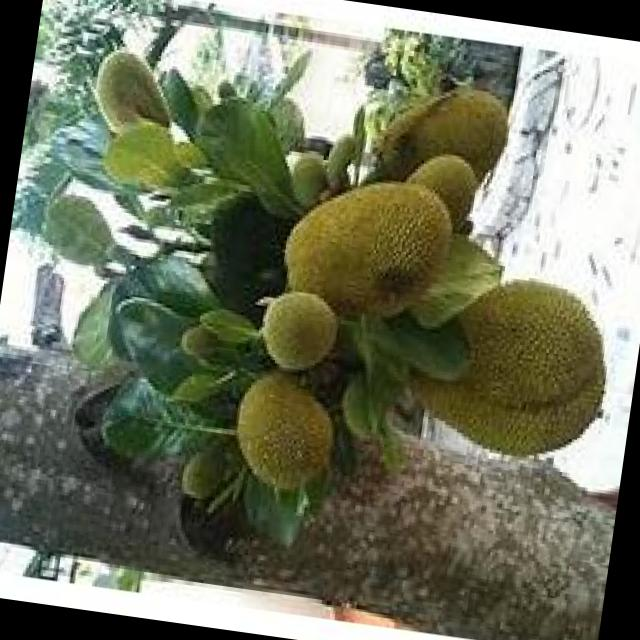Fruit: (376, 238, 640, 492), (248, 149, 487, 361), (208, 356, 360, 506)
